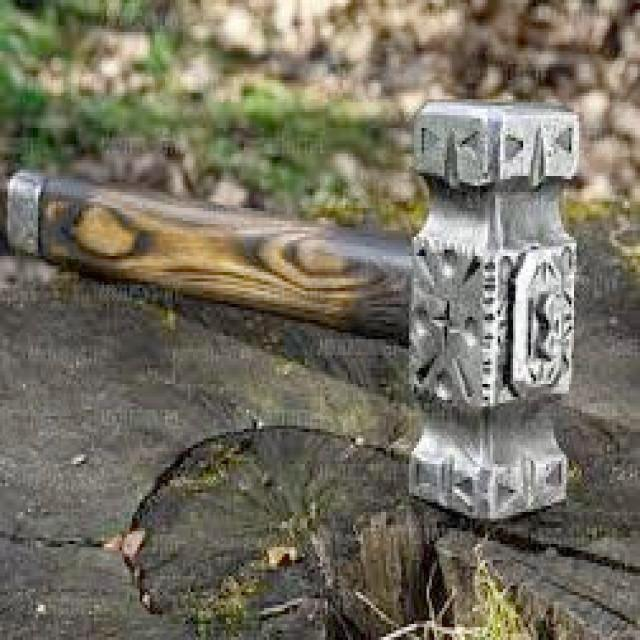hammer: (0, 96, 584, 531)
